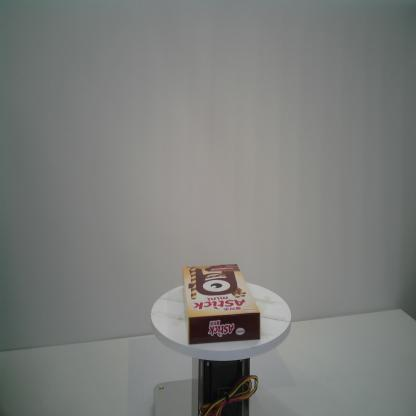Dessert: (182, 263, 260, 346)
